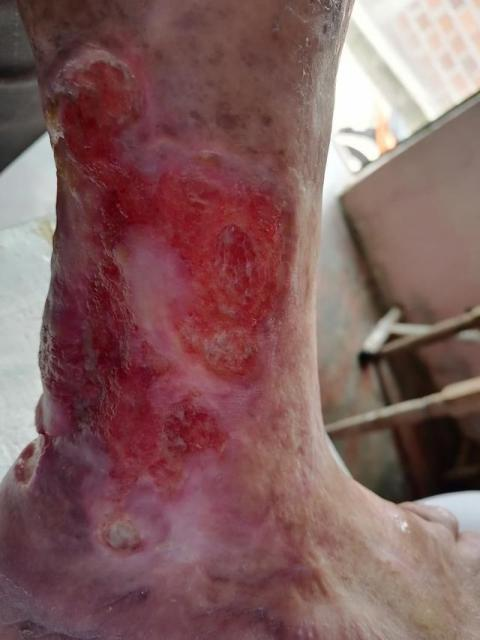wound: (14, 49, 290, 528), (100, 512, 145, 555)
